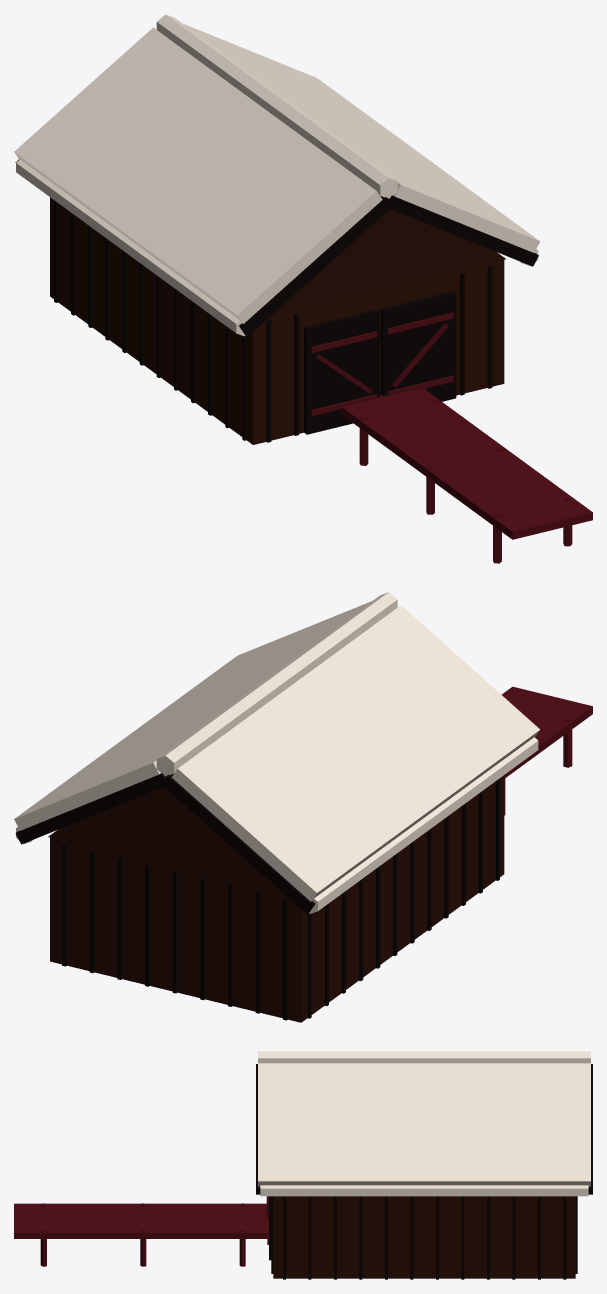
The model's file is rs_boathouse.glb.
The picture shows the model from 3 angles, top to bottom: view 1: azimuth 30°, elevation 25°; view 2: azimuth 150°, elevation 25°; view 3: azimuth 270°, elevation 25°; orthographic projection. The views are drawn at different scales.
Parts seen in each view (by area): view 1: boathouse; view 2: boathouse; view 3: boathouse.
Boxes of the visible parts, box(x1,y1,x2,y2) form: boathouse: box(14, 14, 592, 563); boathouse: box(14, 592, 592, 1022); boathouse: box(14, 1051, 592, 1279).
Size of the model in its own units: 6.03 by 5.14 by 13.4.
